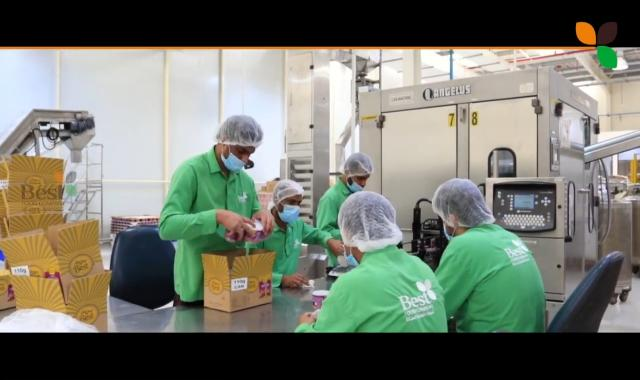hairnet: (338, 193, 402, 251), (433, 177, 491, 226), (214, 114, 262, 170), (270, 178, 304, 219), (341, 155, 374, 188)
